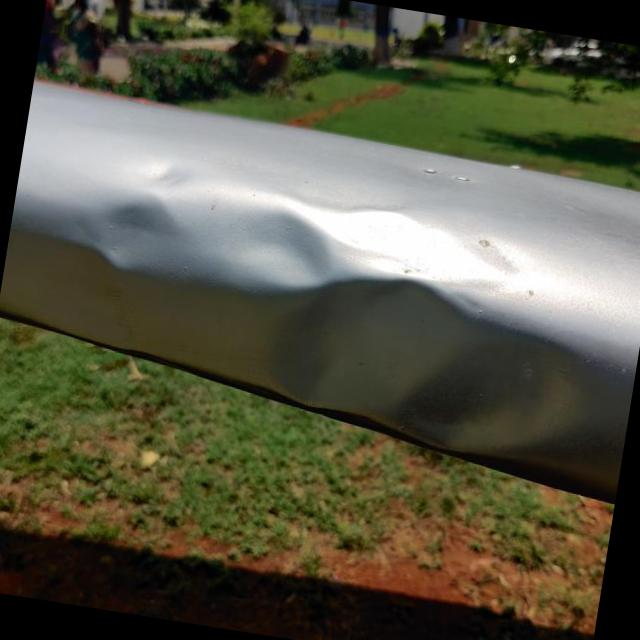Dent: (232, 164, 640, 496), (60, 136, 211, 282)
